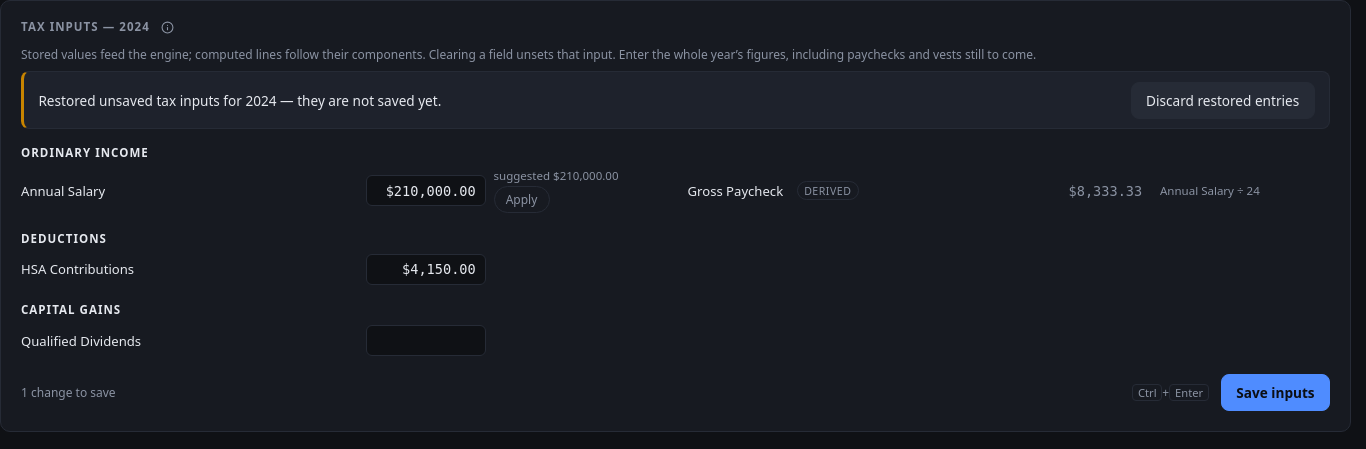
Test: InputsForm — unsaved work survives (2026-09-23 spec §W9) › a save clears the draft and the banner
The width and height of the screenshot is (1366, 449).
Click the button "Save inputs" at (1275, 392), box [1221,374,1330,411]
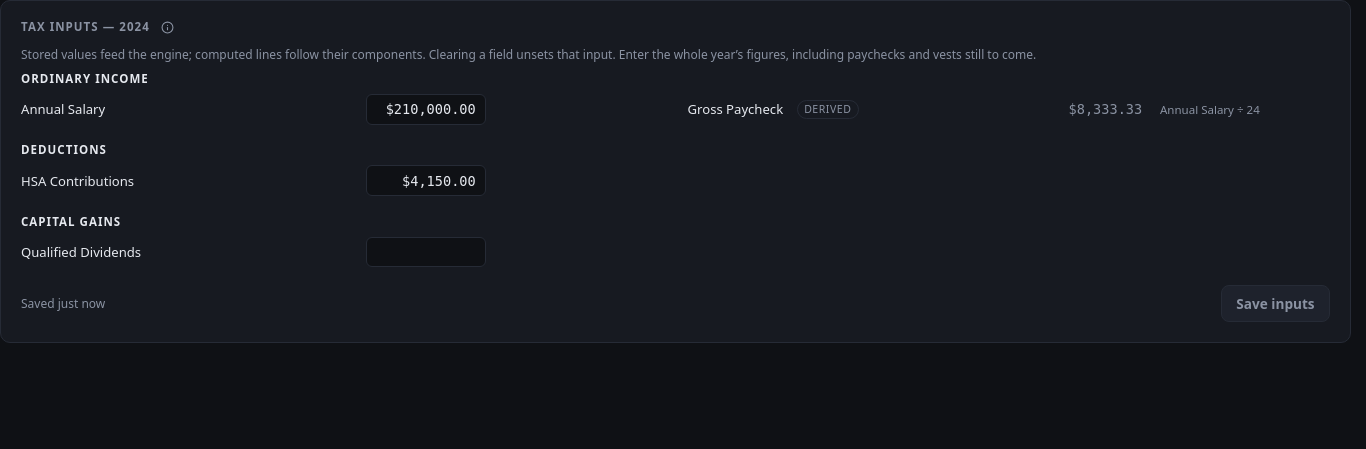
Expected: the text "Restored unsaved tax inputs for 2024 — they are not saved yet." is gone
